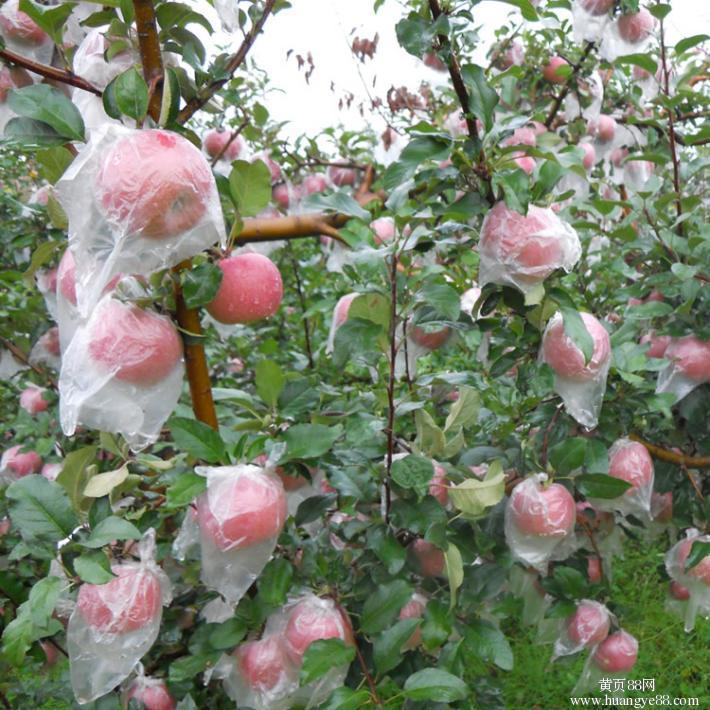apple: (96, 129, 209, 236), (84, 299, 183, 392), (203, 250, 281, 323), (607, 441, 653, 509), (408, 537, 447, 585)
